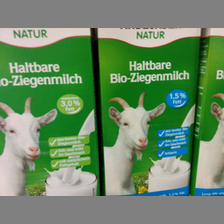milk: (99, 29, 205, 198), (1, 27, 101, 196)
